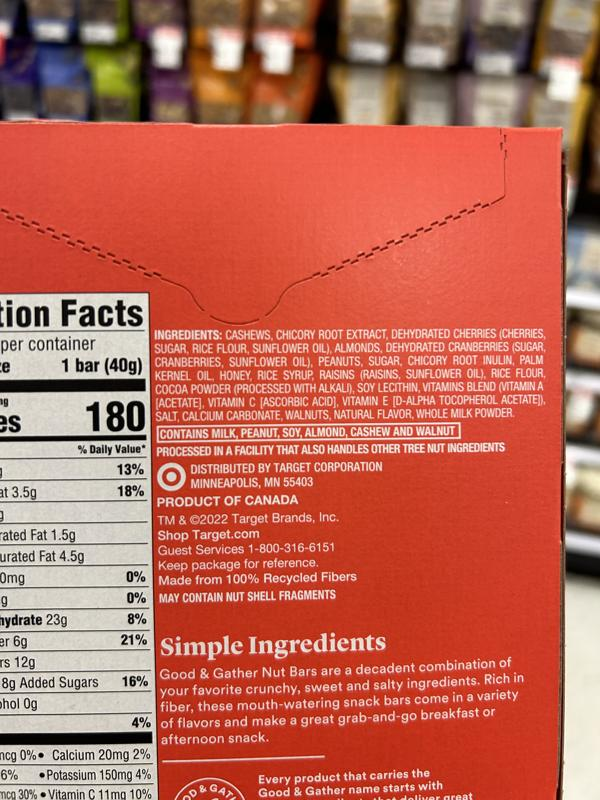ingredients: (150, 326, 547, 424)
